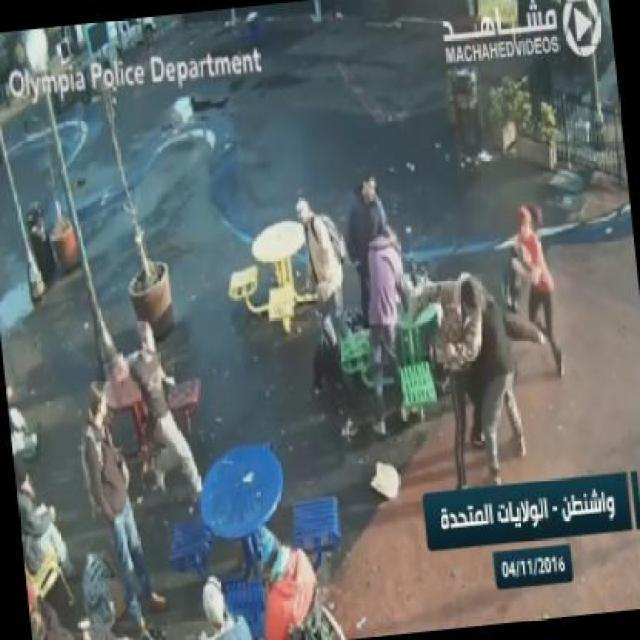fight: (406, 261, 536, 487)
